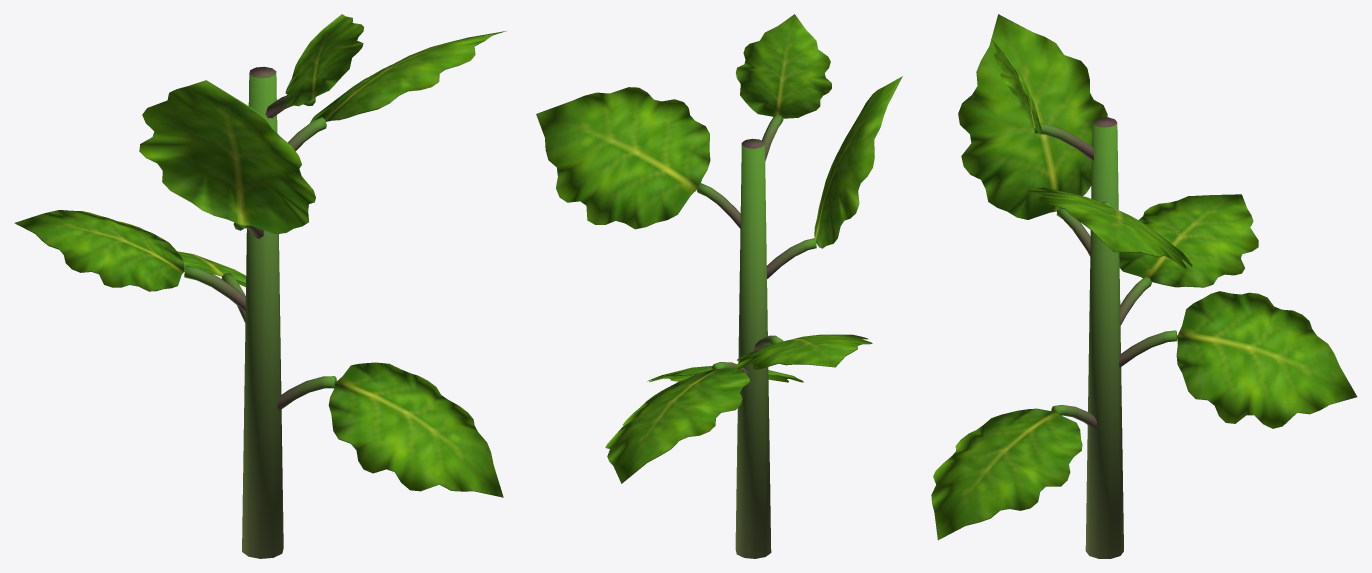
File: NP_Eggplant_Young_LOD1.fbx
The picture shows the model from 3 angles, left to right: view 1: azimuth 30°, elevation 25°; view 2: azimuth 150°, elevation 25°; view 3: azimuth 270°, elevation 25°; orthographic projection. The views are drawn at different scales.
Visible parts, largest first — view 1: NP_Eggplant_Young; view 2: NP_Eggplant_Young; view 3: NP_Eggplant_Young.
Part boxes in pixels (x1,y1,x2,y2): NP_Eggplant_Young: (14,14,506,558); NP_Eggplant_Young: (536,14,902,558); NP_Eggplant_Young: (931,14,1357,558).
Size of the model in its own units: 54.83 by 71.82 by 53.34.
